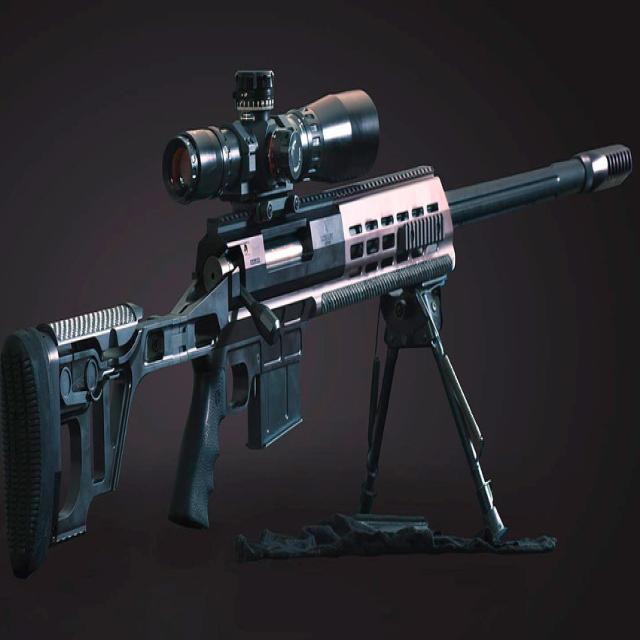Rifle: (0, 71, 634, 582)
